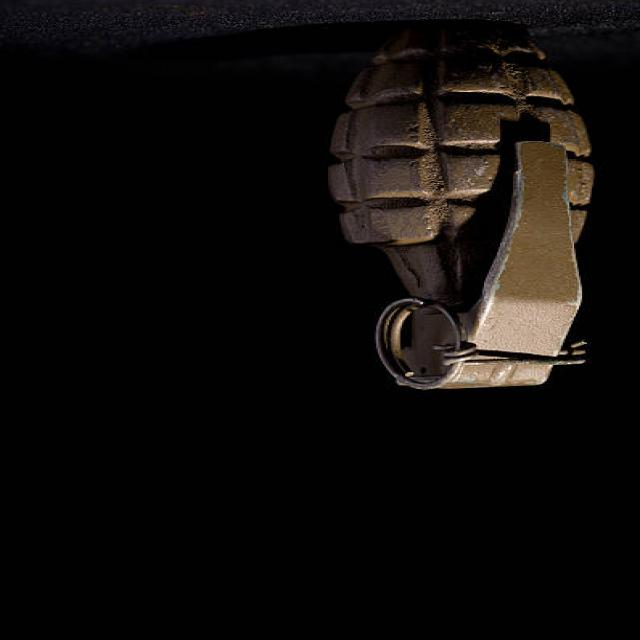grenade: (302, 14, 621, 395)
